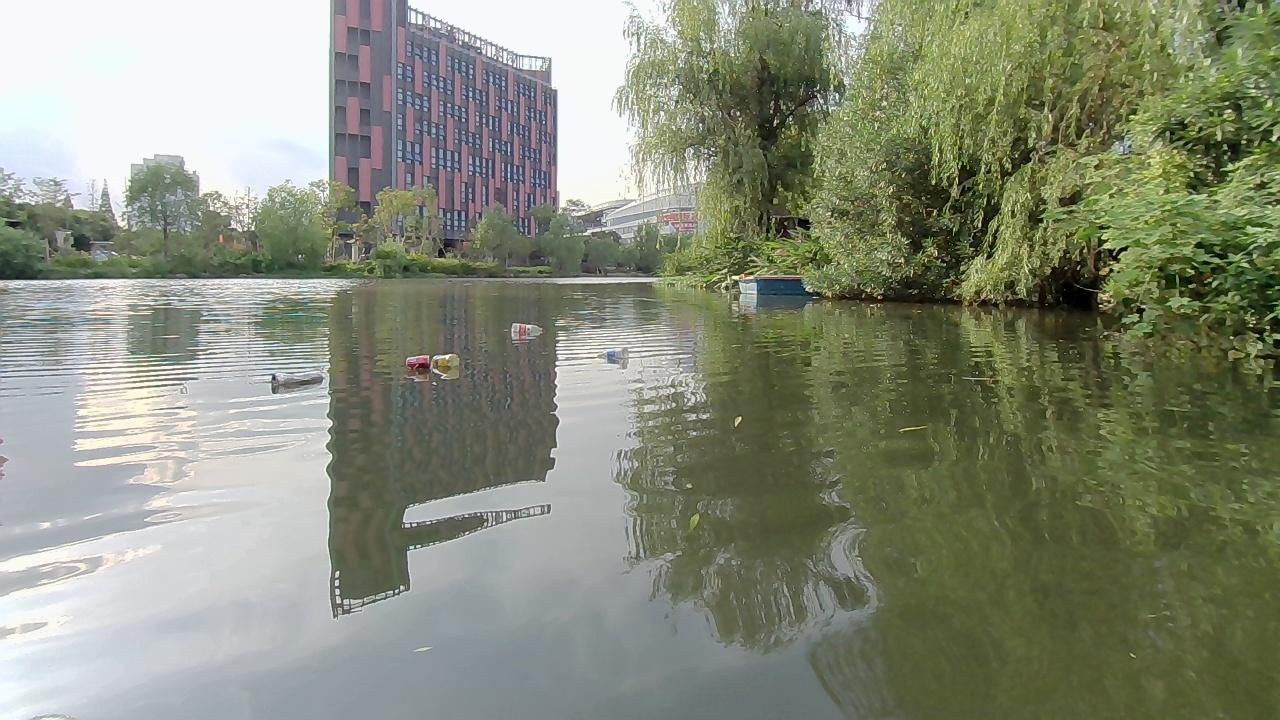bottle: (266, 365, 330, 395), (588, 343, 632, 371), (509, 320, 542, 342), (429, 353, 461, 372), (404, 351, 435, 369)
